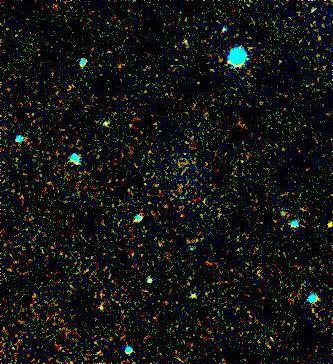star: (313, 218, 333, 248)
